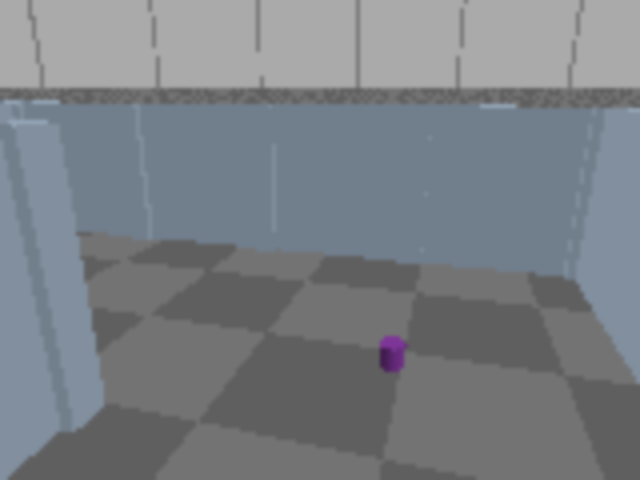puck: (380, 337, 406, 371)
